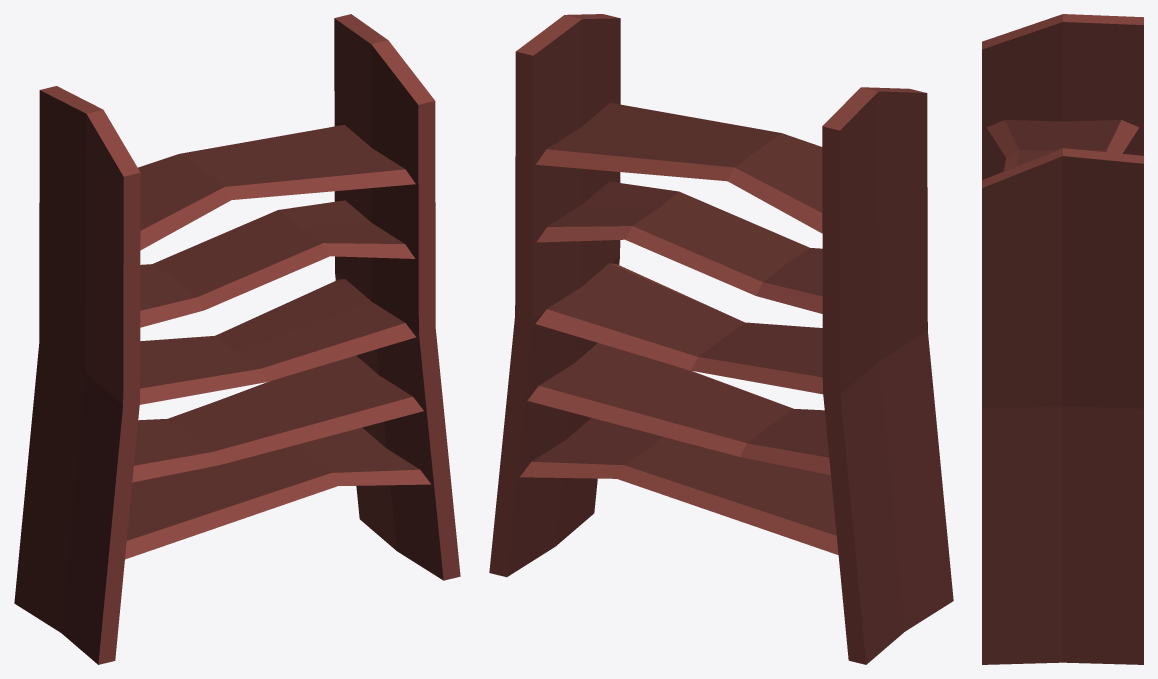
The model's file is Shelf_5_Red.fbx.
3 views of the same model, side by side, from view 1: azimuth 30°, elevation 25°; view 2: azimuth 150°, elevation 25°; view 3: azimuth 270°, elevation 25° (orthographic). The views are drawn at different scales.
Visible parts, largest first — view 1: Shelf_5_Red_Part_1, Shelf_5_Red_Part_2; view 2: Shelf_5_Red_Part_1, Shelf_5_Red_Part_2; view 3: Shelf_5_Red_Part_1, Shelf_5_Red_Part_2.
Part boxes in pixels (bbox=[...]): Shelf_5_Red_Part_1: bbox=[14, 18, 443, 664]; Shelf_5_Red_Part_2: bbox=[40, 14, 460, 664]; Shelf_5_Red_Part_1: bbox=[507, 18, 953, 664]; Shelf_5_Red_Part_2: bbox=[489, 14, 925, 664]; Shelf_5_Red_Part_1: bbox=[982, 22, 1143, 664]; Shelf_5_Red_Part_2: bbox=[982, 14, 1143, 187].
Bounding box in the file's own units: 149 × 202 × 60.
